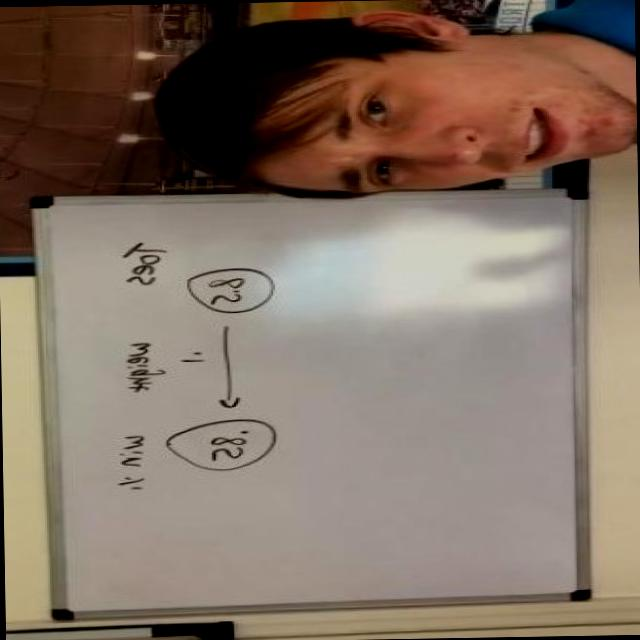Instructor: (145, 9, 638, 216)
White-board: (37, 192, 580, 615)
